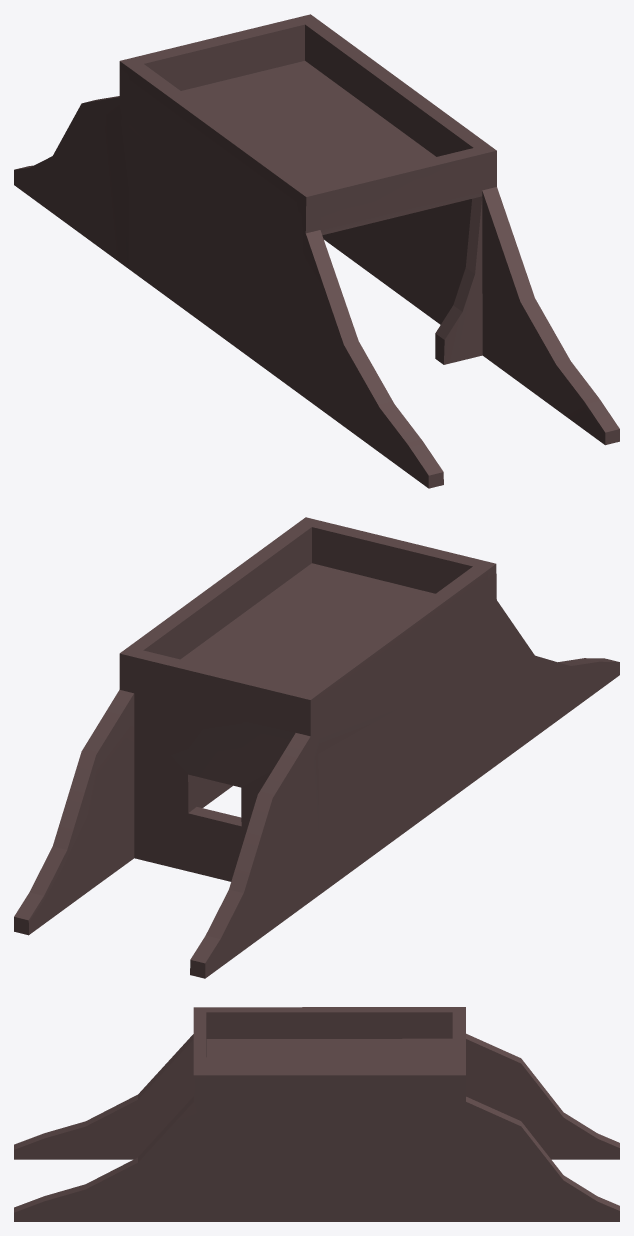
Rendered from Simple_Bunker.fbx.
3 views of the same model, one above another, from view 1: azimuth 30°, elevation 25°; view 2: azimuth 150°, elevation 25°; view 3: azimuth 270°, elevation 25° (orthographic). The views are drawn at different scales.
Visible parts, largest first — view 1: Simple_Bunker01; view 2: Simple_Bunker01; view 3: Simple_Bunker01.
Boxes of the visible parts, x1,y1,x2,y2 form: Simple_Bunker01: [14, 14, 619, 488]; Simple_Bunker01: [14, 517, 619, 978]; Simple_Bunker01: [14, 1007, 619, 1221].
Bounding box in the file's own units: 287 × 289 × 1078.
